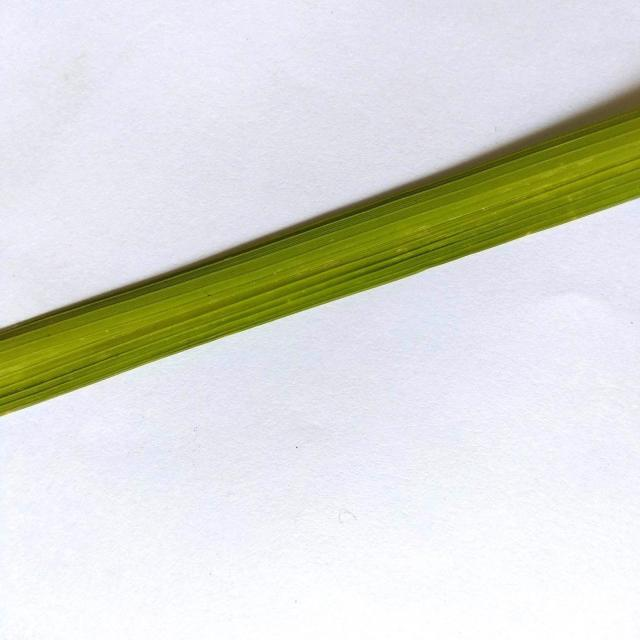healthy: (0, 102, 640, 440)
